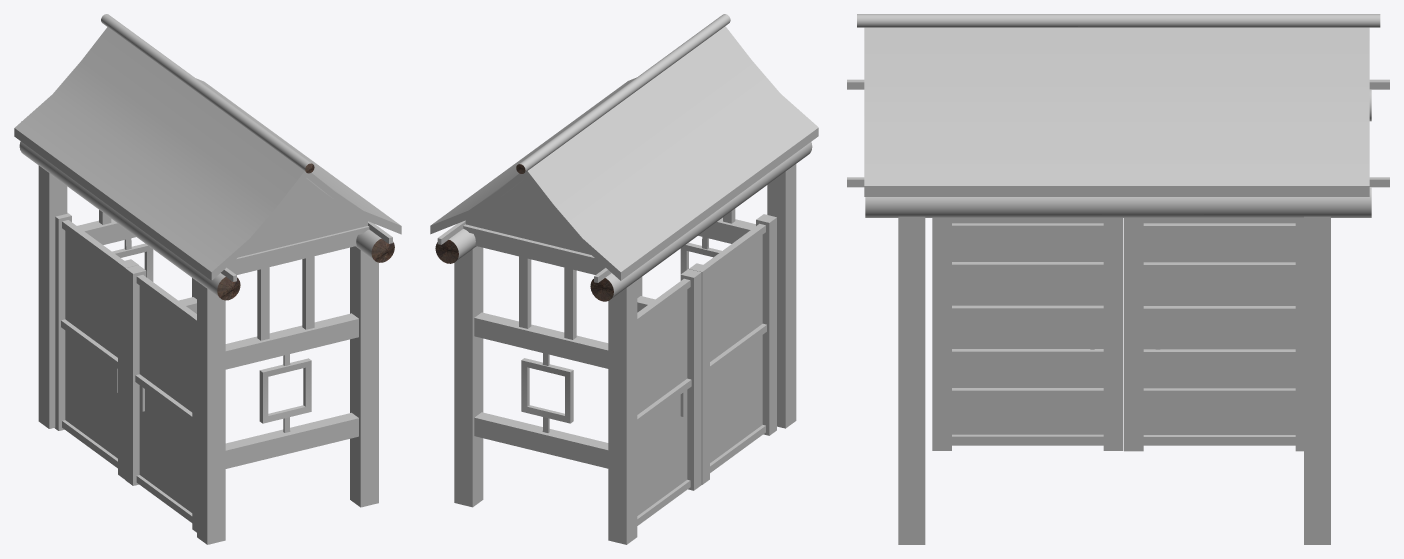
File: gate.fbx
3 renders of one model, left to right at view 1: azimuth 30°, elevation 25°; view 2: azimuth 150°, elevation 25°; view 3: azimuth 270°, elevation 25°, orthographic. The views are drawn at different scales.
Visible parts, largest first — view 1: gate, door_2, door_1; view 2: gate, door_2, door_1; view 3: gate, door_2, door_1.
Boxes of the visible parts, x1,y1,x2,y2 form: gate: [14, 14, 401, 544]; door_2: [125, 265, 196, 532]; door_1: [55, 212, 138, 479]; gate: [430, 14, 818, 544]; door_2: [689, 214, 776, 484]; door_1: [637, 269, 701, 525]; gate: [847, 14, 1389, 544]; door_2: [932, 218, 1123, 450]; door_1: [1124, 218, 1303, 451].
Bounding box in the file's own units: 6.2 × 11.64 × 11.97.
